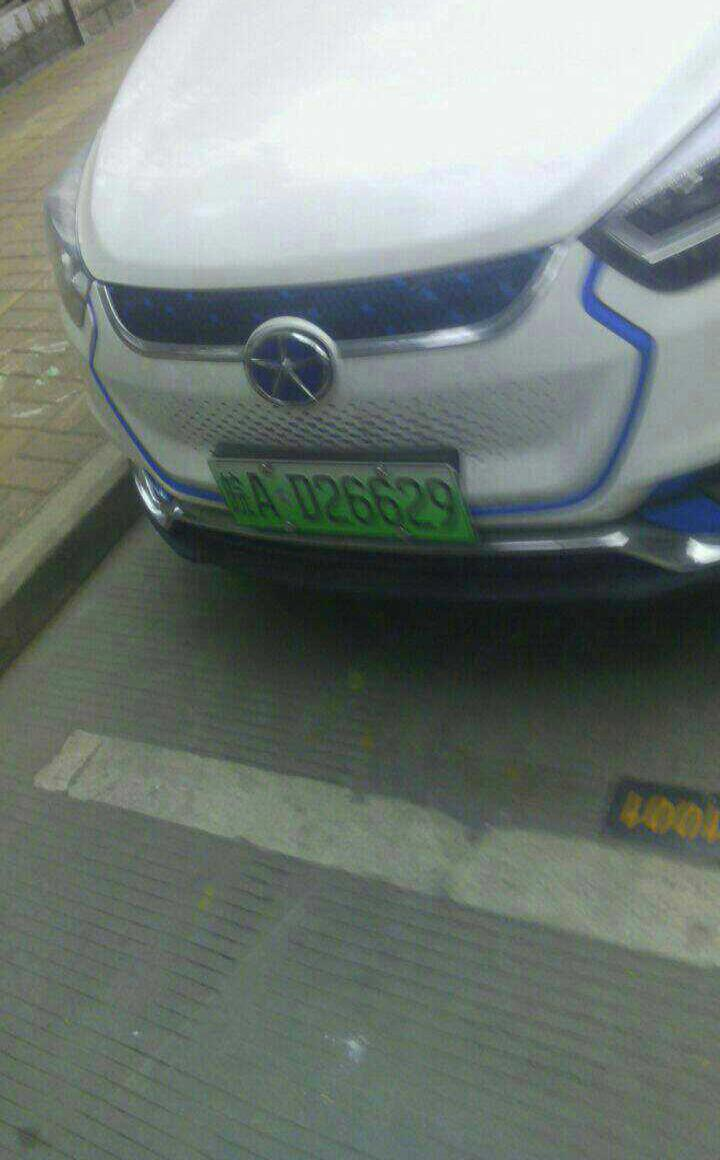car_id: (203, 461, 473, 538)
